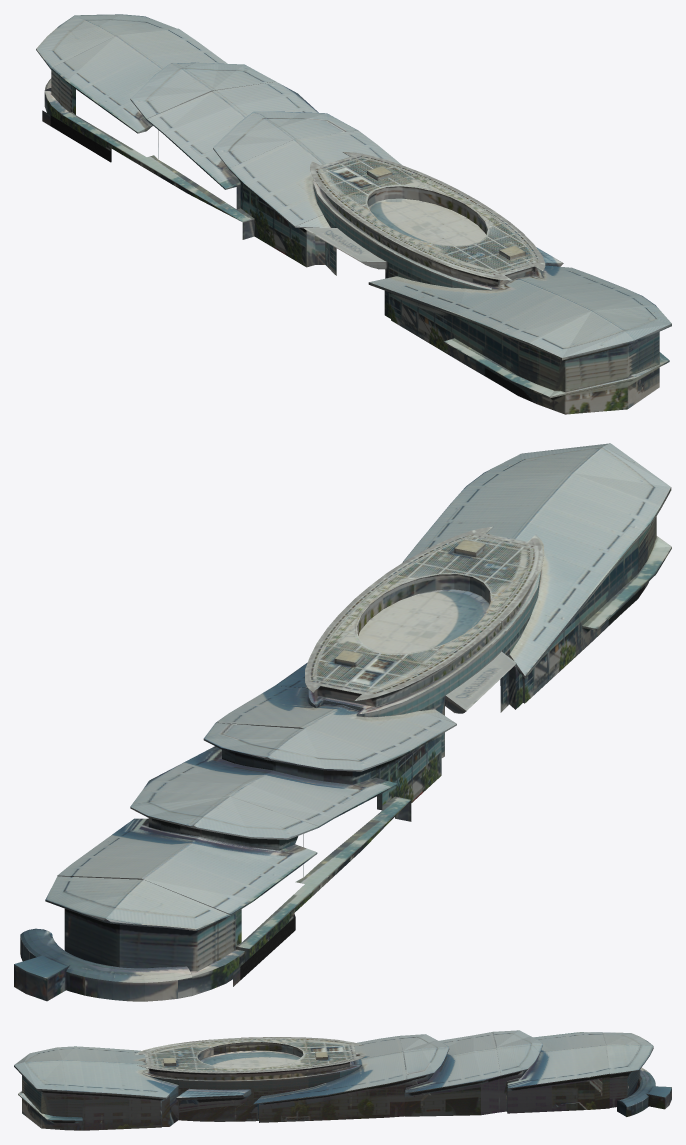
3 views of the same model, one above another, from view 1: azimuth 30°, elevation 25°; view 2: azimuth 150°, elevation 25°; view 3: azimuth 270°, elevation 25° (orthographic). The views are drawn at different scales.
Parts seen in each view (by area): view 1: geometry_0; view 2: geometry_0; view 3: geometry_0.
Boxes of the visible parts, box(x1,y1,x2,y2) form: geometry_0: box(36, 14, 671, 414); geometry_0: box(14, 443, 671, 1001); geometry_0: box(14, 1030, 671, 1130).
Bounding box in the file's own units: 49.93 × 15.61 × 180.
1 material, 1 textured.
